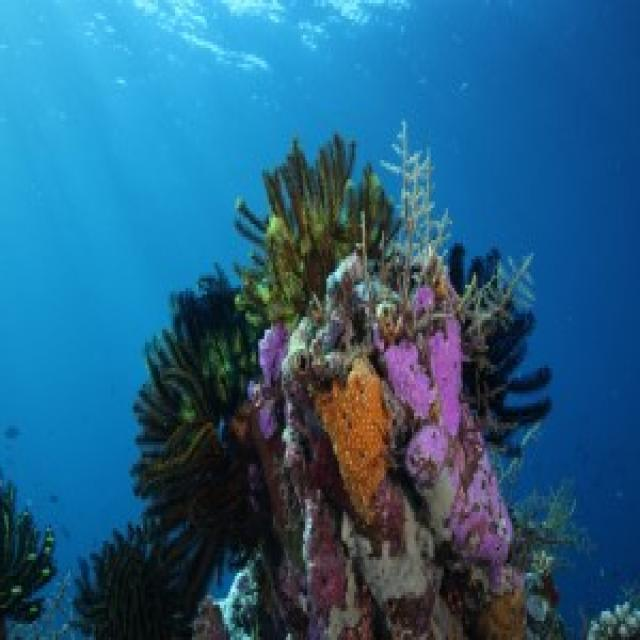Bleached: (389, 128, 444, 266)
Healthy: (140, 274, 251, 535), (235, 133, 389, 319)
